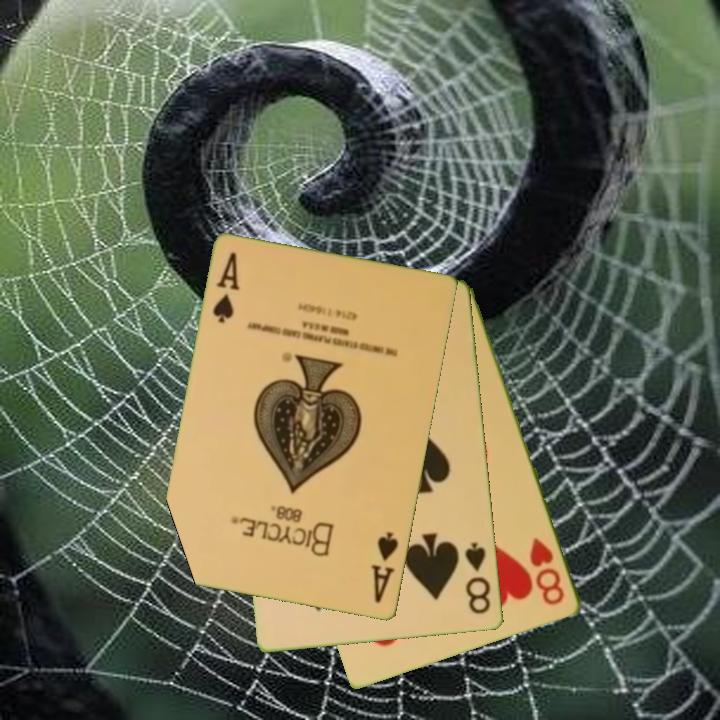8h: (526, 534, 568, 608)
8s: (462, 539, 494, 617)
As: (367, 529, 402, 607), (209, 249, 243, 327)
